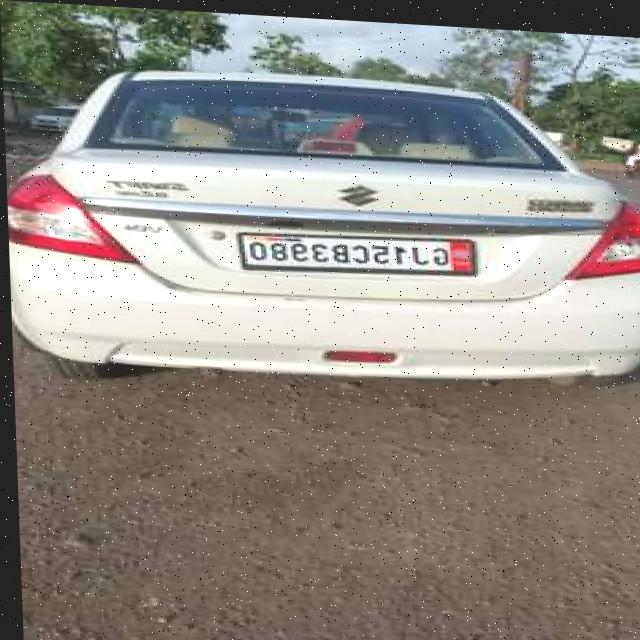plate: (235, 220, 480, 279)
